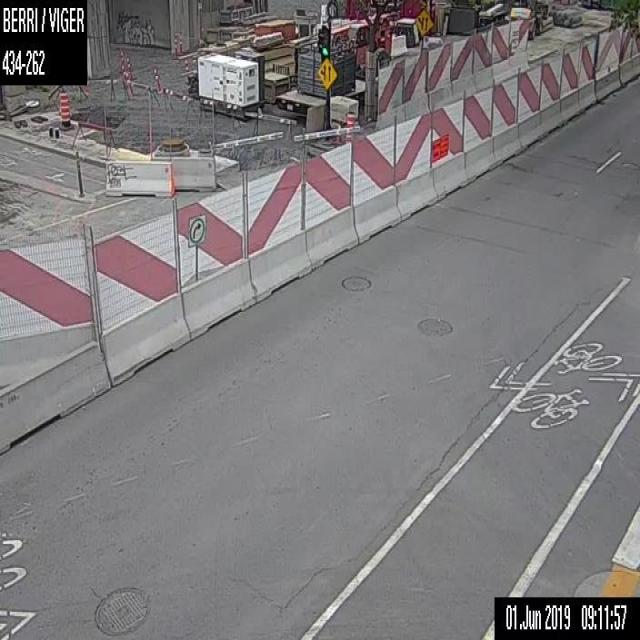construction: (59, 89, 70, 132), (346, 109, 355, 143)
